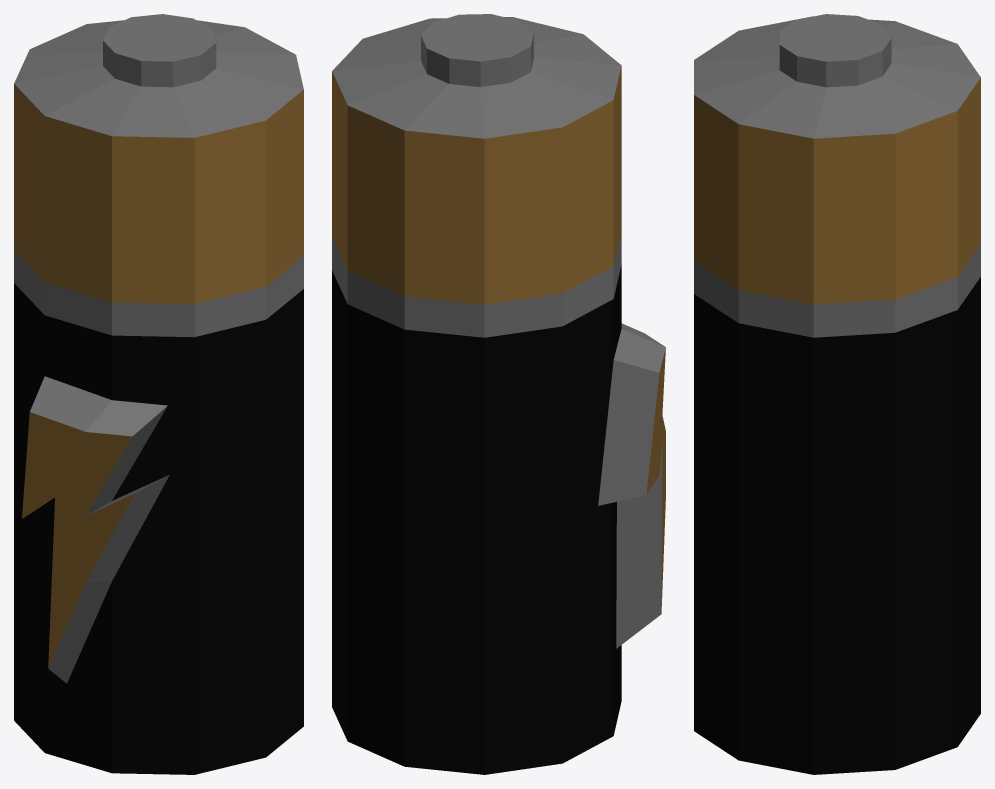
The model's file is batteryFBX.fbx.
The picture shows the model from 3 angles, left to right: view 1: azimuth 30°, elevation 25°; view 2: azimuth 150°, elevation 25°; view 3: azimuth 270°, elevation 25°; orthographic projection.
Visible parts, largest first — view 1: Cylinder; view 2: Cylinder; view 3: Cylinder.
Boxes of the visible parts, box(x1,y1,x2,y2) form: Cylinder: box(14, 14, 303, 774); Cylinder: box(332, 14, 665, 774); Cylinder: box(694, 14, 980, 774).
Size of the model in its own units: 1.37 by 3.13 by 1.21.
